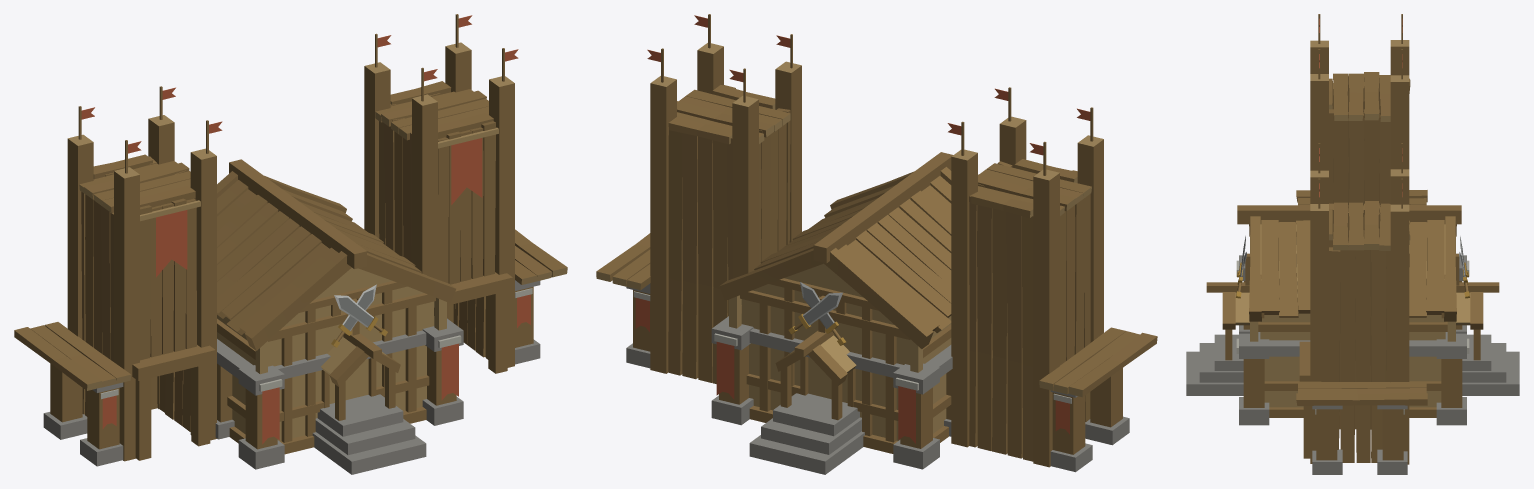
File: quaternius-real-time-strategy-barracks-first-age-level-3.glb
The picture shows the model from 3 angles, left to right: view 1: azimuth 30°, elevation 25°; view 2: azimuth 150°, elevation 25°; view 3: azimuth 270°, elevation 25°; orthographic projection. The views are drawn at different scales.
Parts seen in each view (by area): view 1: Barracks_FirstAge_Level3; view 2: Barracks_FirstAge_Level3; view 3: Barracks_FirstAge_Level3.
Part boxes in pixels (box(x1,y1,x2,y2)): Barracks_FirstAge_Level3: box(14, 14, 567, 474); Barracks_FirstAge_Level3: box(596, 14, 1157, 474); Barracks_FirstAge_Level3: box(1186, 14, 1519, 474).
Size of the model in its own units: 2.33 by 1.47 by 1.57.
1 material, 1 textured.
